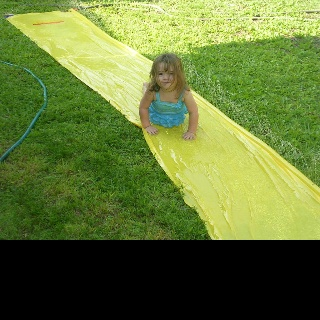without_mask: (155, 61, 177, 88)
